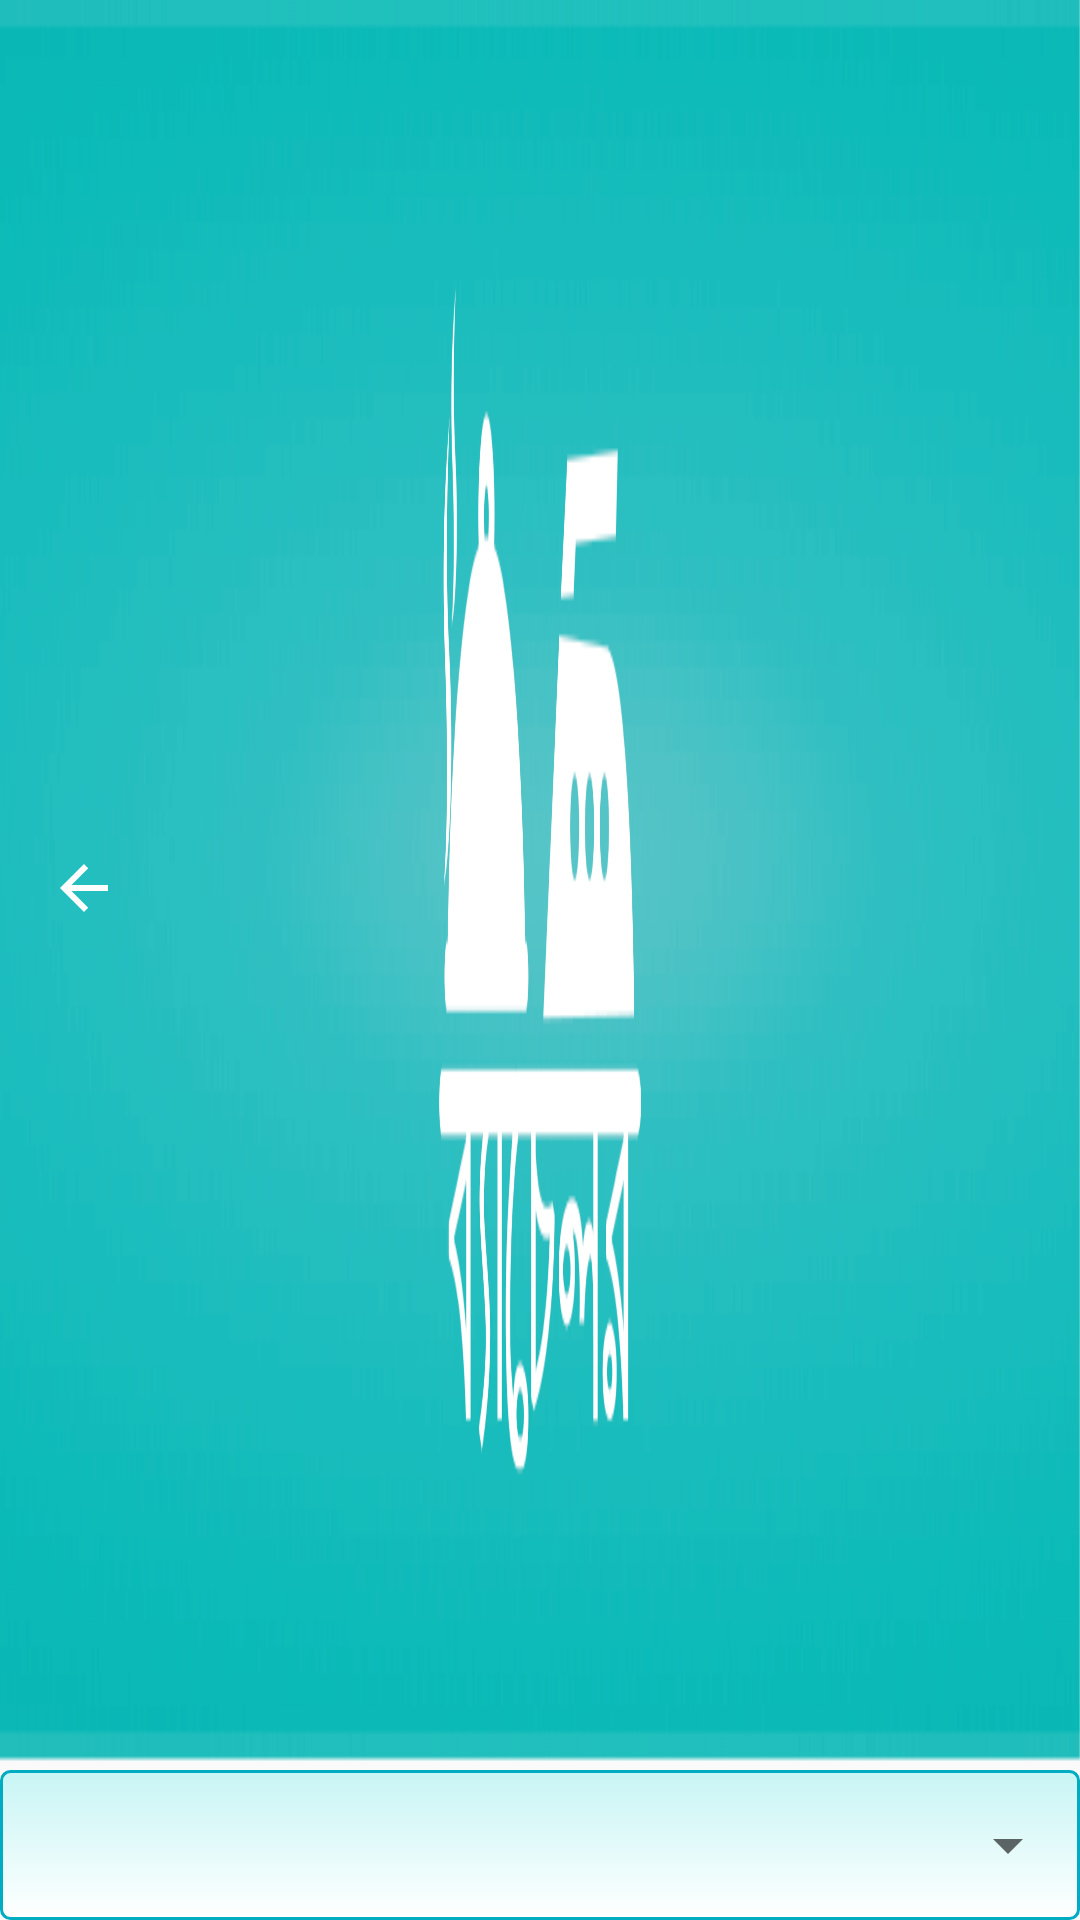

Point at icon controls on the screen. Image size 1080x1920, points as [x,y].
arrow back: [84,888]
